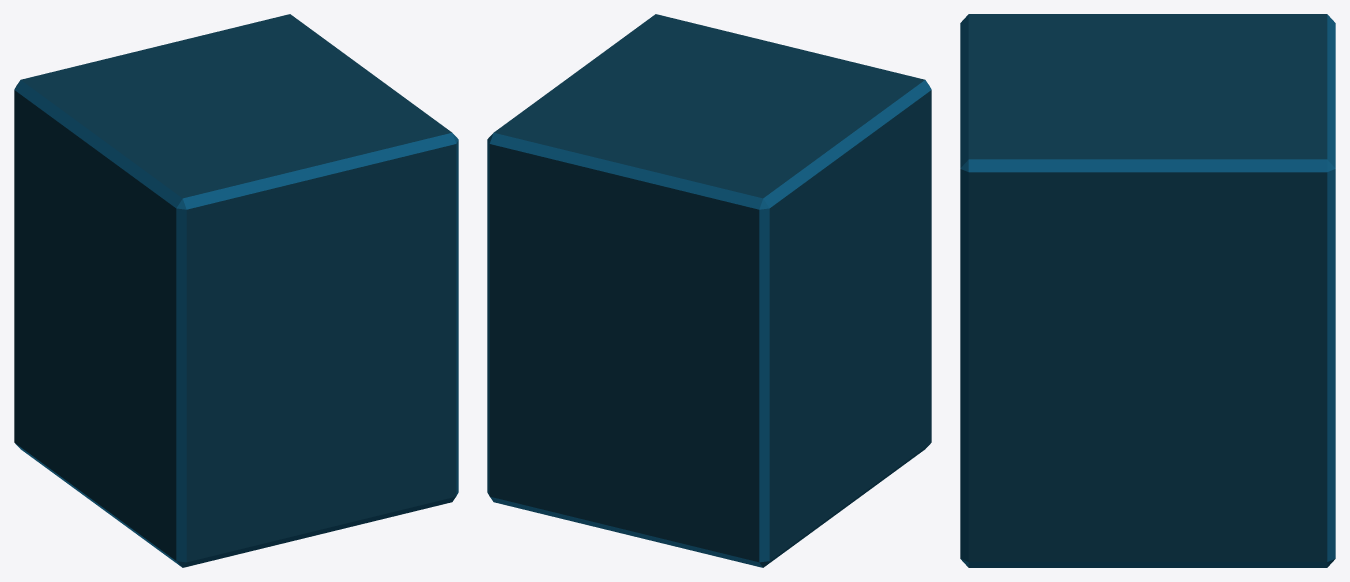
The model's file is baseGate_type_01.fbx.
The picture shows the model from 3 angles, left to right: view 1: azimuth 30°, elevation 25°; view 2: azimuth 150°, elevation 25°; view 3: azimuth 270°, elevation 25°; orthographic projection. The views are drawn at different scales.
Visible parts, largest first — view 1: baseGate_type_01; view 2: baseGate_type_01; view 3: baseGate_type_01.
Boxes of the visible parts, x1,y1,x2,y2 form: baseGate_type_01: [14, 14, 458, 567]; baseGate_type_01: [487, 14, 931, 567]; baseGate_type_01: [960, 14, 1335, 567].
Bounding box in the file's own units: 57.6 × 72 × 60.
